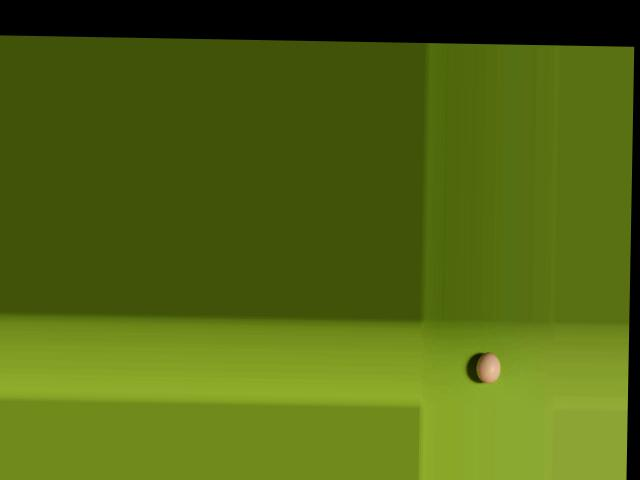egg: (475, 351, 499, 383)
